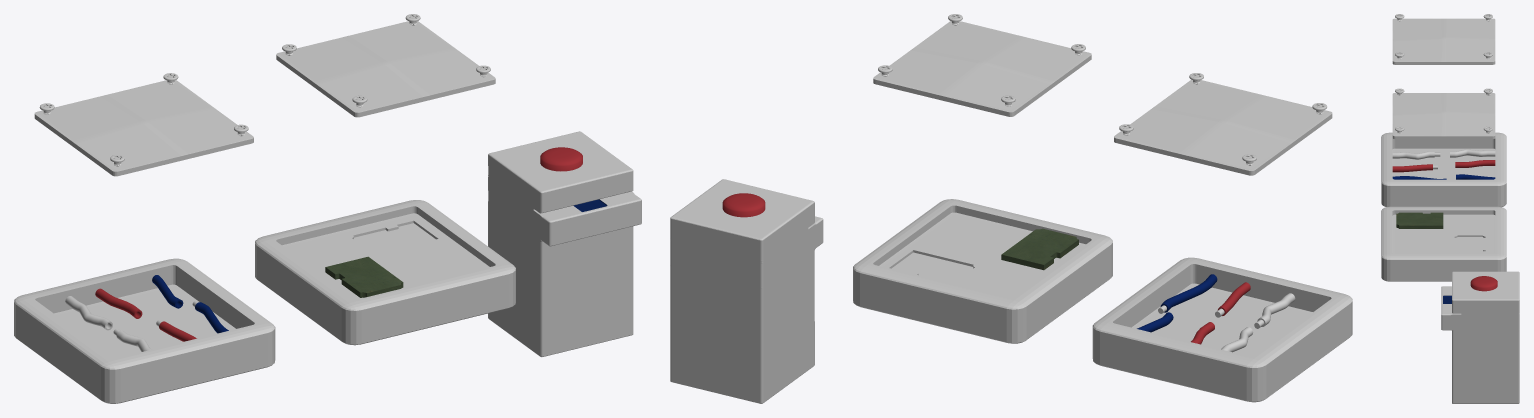
File: ucoda.fbx
3 renders of one model, left to right at view 1: azimuth 30°, elevation 25°; view 2: azimuth 150°, elevation 25°; view 3: azimuth 270°, elevation 25°, orthographic. The views are drawn at different scales.
Parts seen in each view (by area): view 1: Cube.005, Cube.002, Cube.001, Cube.004, Cube, Cube.003, Cylinder.008; view 2: Cube.005, Cube.002, Cube.001, Cube.004, Cube, Cube.003, Cylinder.008, Circle.002; view 3: Cube.005, Cube.002, Cube.001, Cube.004, Cube, Cube.003, Cylinder.008, Circle.004, Circle.003, Circle.005, Circle.006, Circle.007 (+1 smaller).
Part boxes in pixels (x1,y1,x2,y2): Cube.005: [488, 131, 641, 357]; Cube.002: [255, 200, 515, 345]; Cube.001: [14, 258, 275, 403]; Cube.004: [276, 21, 495, 117]; Cube: [34, 80, 253, 176]; Cube.003: [325, 256, 403, 297]; Cylinder.008: [540, 147, 582, 171]; Cube.005: [670, 179, 823, 403]; Cube.002: [853, 199, 1112, 343]; Cube.001: [1092, 257, 1352, 402]; Cube.004: [873, 21, 1091, 116]; Cube: [1114, 79, 1332, 175]; Cube.003: [1001, 228, 1078, 270]; Cylinder.008: [722, 193, 765, 217]; Circle.002: [1160, 274, 1217, 312]; Cube.005: [1441, 271, 1519, 403]; Cube.002: [1381, 206, 1506, 281]; Cube.001: [1381, 132, 1506, 206]; Cube.004: [1392, 93, 1495, 139]; Cube: [1392, 18, 1495, 64]; Cube.003: [1396, 212, 1443, 228]; Cylinder.008: [1470, 276, 1497, 291]; Circle.004: [1450, 149, 1495, 157]; Circle.003: [1392, 151, 1434, 159]; Circle.005: [1392, 164, 1432, 172]; Circle.006: [1455, 160, 1495, 167]; Circle.007: [1456, 174, 1495, 179].
Size of the model in its own units: 1691 by 956 by 552.
